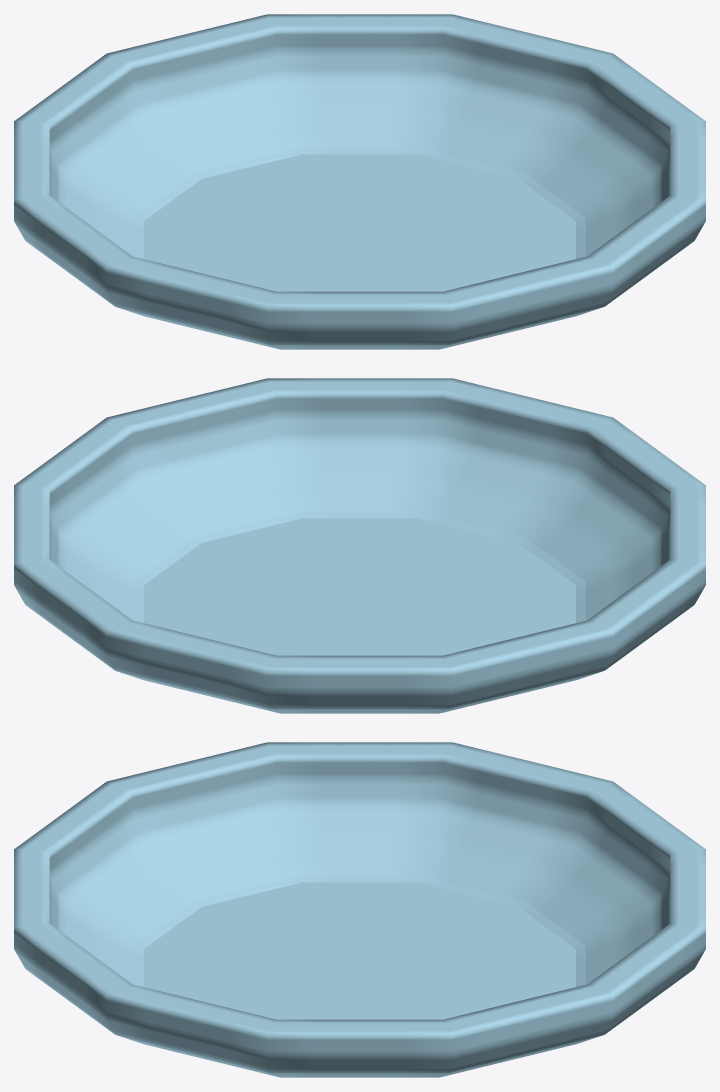
File: Plate.fbx
The picture shows the model from 3 angles, top to bottom: view 1: azimuth 30°, elevation 25°; view 2: azimuth 150°, elevation 25°; view 3: azimuth 270°, elevation 25°; orthographic projection.
Parts seen in each view (by area): view 1: Circle; view 2: Circle; view 3: Circle.
Boxes of the visible parts, left/top/right/bottom form: Circle: left=14, top=14, right=705, bottom=349; Circle: left=14, top=378, right=705, bottom=713; Circle: left=14, top=742, right=705, bottom=1077.
Size of the model in its own units: 193 by 27.55 by 193.
